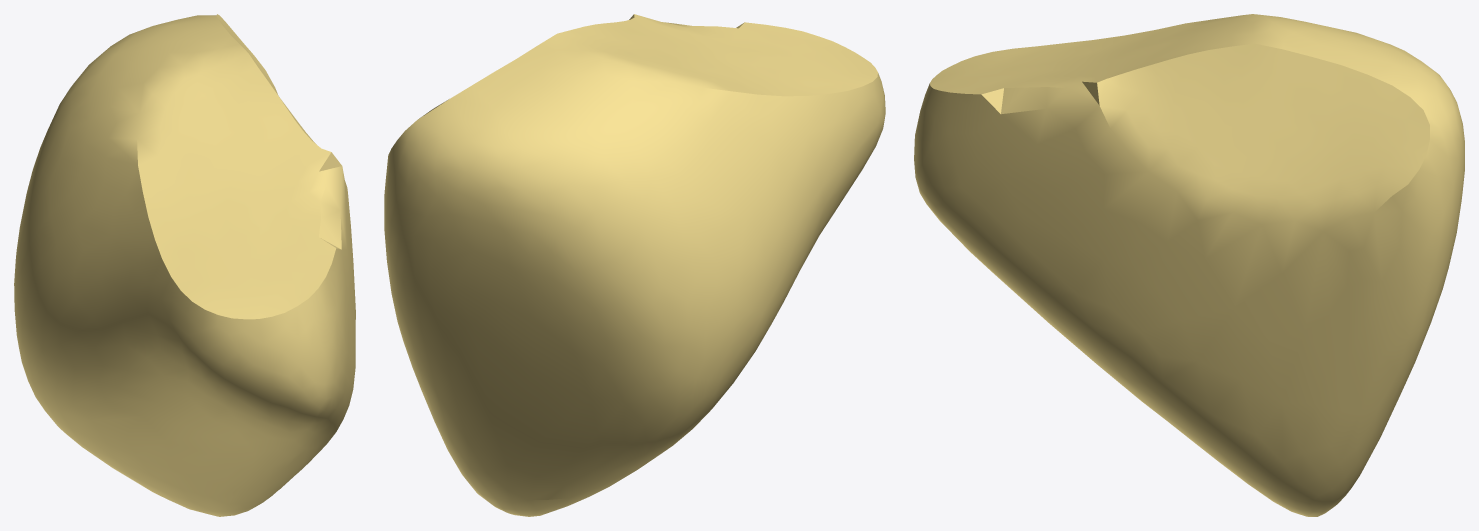
Rendered from fma73405_mm2914m.glb.
3 views of the same model, side by side, from view 1: azimuth 30°, elevation 25°; view 2: azimuth 150°, elevation 25°; view 3: azimuth 270°, elevation 25° (orthographic). The views are drawn at different scales.
Visible parts, largest first — view 1: FMA73405_MM2914M; view 2: FMA73405_MM2914M; view 3: FMA73405_MM2914M.
Part boxes in pixels (<box>): FMA73405_MM2914M: <box>14,14,355,516</box>; FMA73405_MM2914M: <box>384,14,885,516</box>; FMA73405_MM2914M: <box>914,14,1464,516</box>.
Size of the model in its own units: 0.00503 by 0.00751 by 0.00807.
